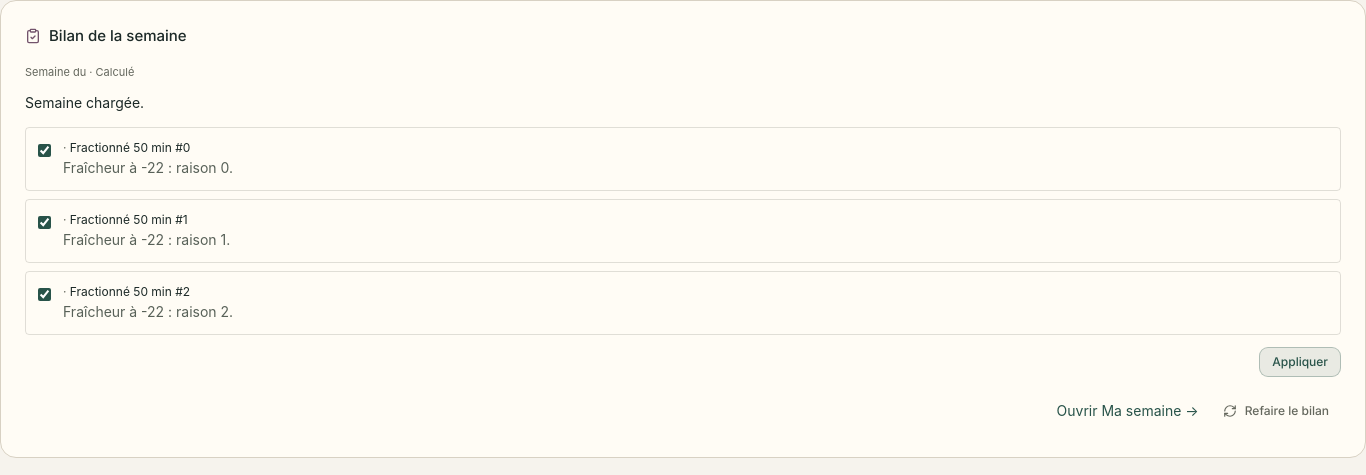
Test case: rewrites the review on demand
Click the button "Refaire le bilan": point(1276, 411) top-left (1211, 397), bottom-right (1341, 425)
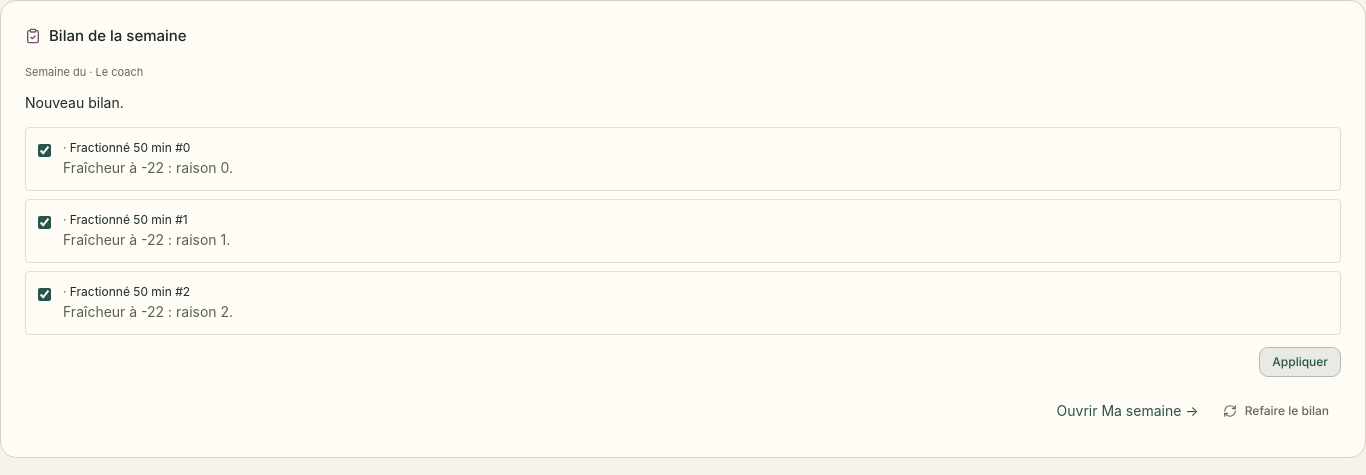
Check: the text "Nouveau bilan." is shown, box top-left (25, 94), bottom-right (124, 111)
Check: the text "Semaine du · Le coach" is shown, box top-left (25, 64), bottom-right (143, 78)
